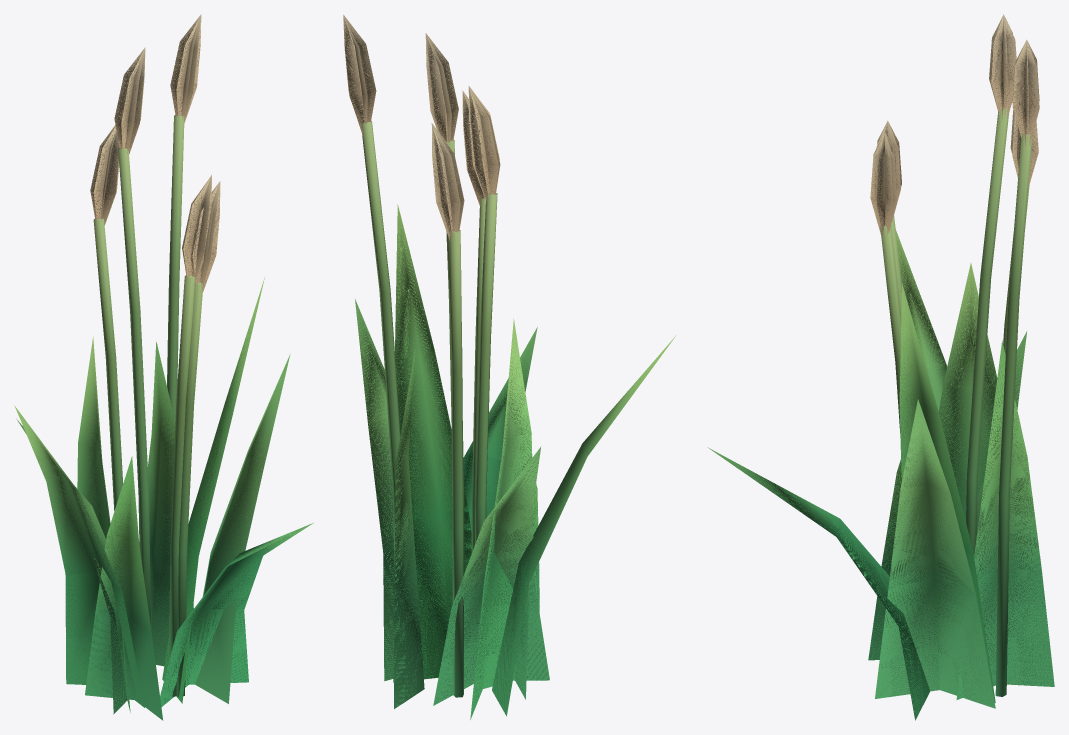
File: verdant_ground_reeds.glb
3 renders of one model, left to right at view 1: azimuth 30°, elevation 25°; view 2: azimuth 150°, elevation 25°; view 3: azimuth 270°, elevation 25°, orthographic. The views are drawn at different scales.
Parts seen in each view (by area): view 1: verdant_ground_reeds; view 2: verdant_ground_reeds; view 3: verdant_ground_reeds.
Boxes of the visible parts, x1,y1,x2,y2 form: verdant_ground_reeds: (14, 14, 313, 720); verdant_ground_reeds: (343, 14, 676, 719); verdant_ground_reeds: (707, 14, 1054, 720).
Bounding box in the file's own units: 1.32 × 2.75 × 1.27.
